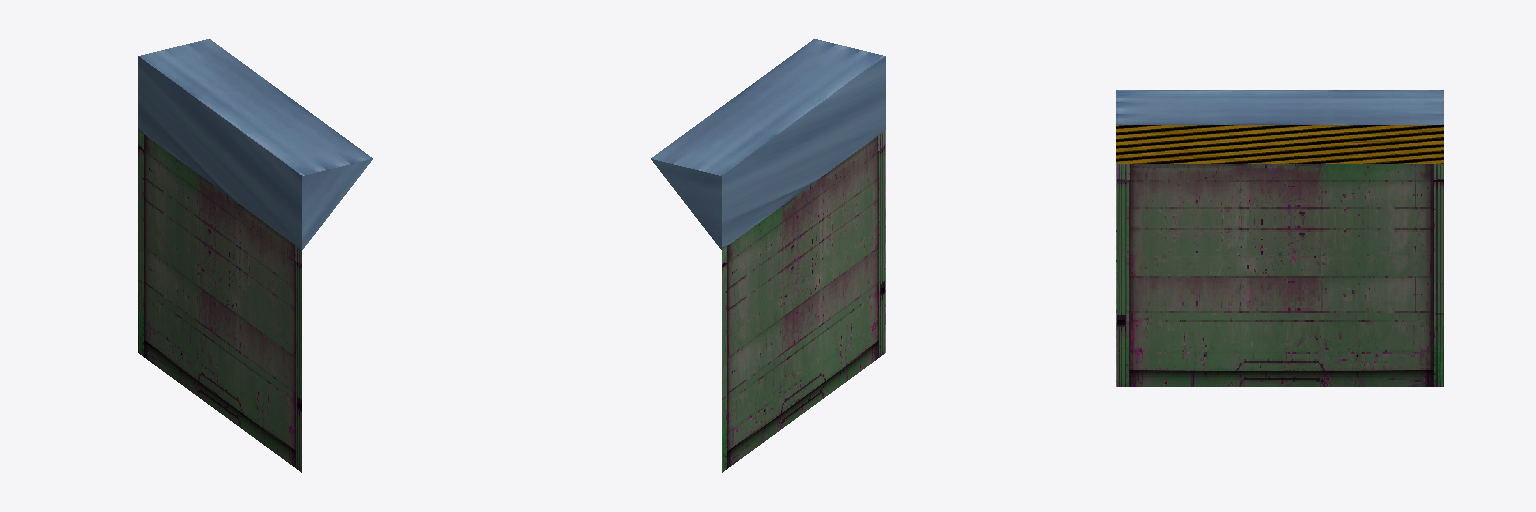
3 views of the same model, side by side, from view 1: azimuth 30°, elevation 25°; view 2: azimuth 150°, elevation 25°; view 3: azimuth 270°, elevation 25° (orthographic).
Visible parts, largest first — view 1: Cube, Cube.001_Cube.002; view 2: Cube, Cube.001_Cube.002; view 3: Cube, Cube.001_Cube.002.
Boxes of the visible parts, <box> form: Cube: <box>138,130,301,472</box>; Cube.001_Cube.002: <box>138,39,372,249</box>; Cube: <box>722,130,885,472</box>; Cube.001_Cube.002: <box>651,39,885,249</box>; Cube: <box>1116,164,1443,386</box>; Cube.001_Cube.002: <box>1116,90,1443,163</box>.
Size of the model in its own units: 1 by 4 by 4.
1 materials, 1 textured.